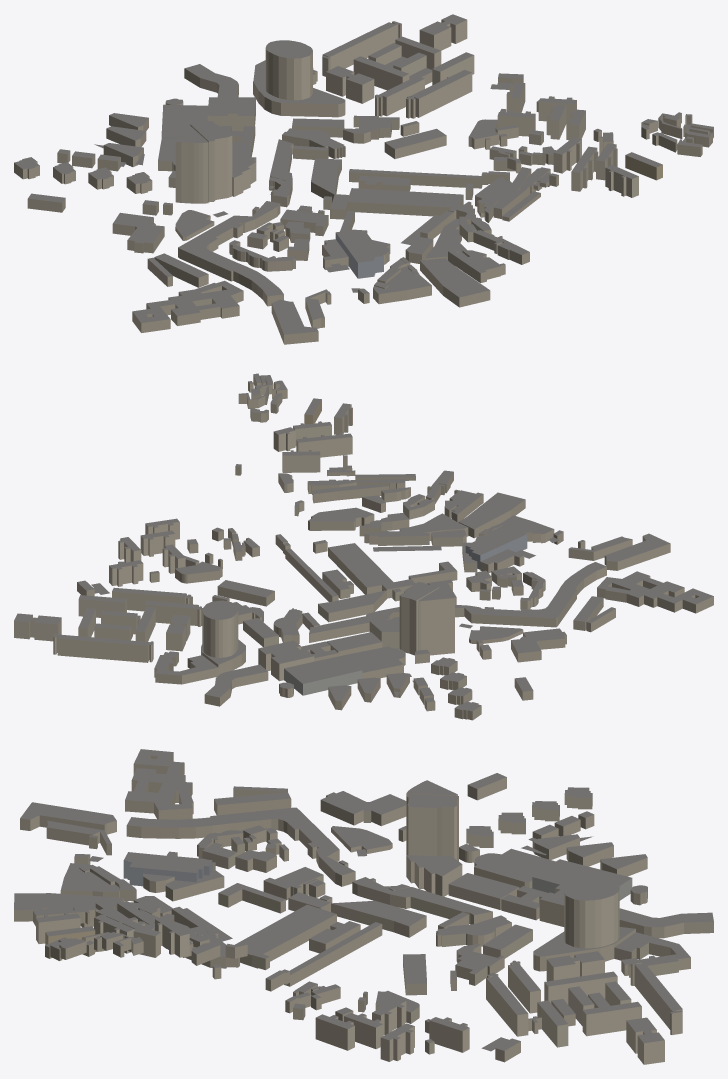
Rendered from buildings.glb.
3 views of the same model, one above another, from view 1: azimuth 30°, elevation 25°; view 2: azimuth 150°, elevation 25°; view 3: azimuth 270°, elevation 25° (orthographic). The views are drawn at different scales.
Visible parts, largest first — view 1: T_W1_N3_buildings; view 2: T_W1_N3_buildings; view 3: T_W1_N3_buildings.
Boxes of the visible parts, bbox=[...] form: T_W1_N3_buildings: bbox=[14, 14, 713, 344]; T_W1_N3_buildings: bbox=[14, 373, 713, 720]; T_W1_N3_buildings: bbox=[14, 749, 713, 1064].
Bounding box in the file's own units: 574 × 103 × 558.
